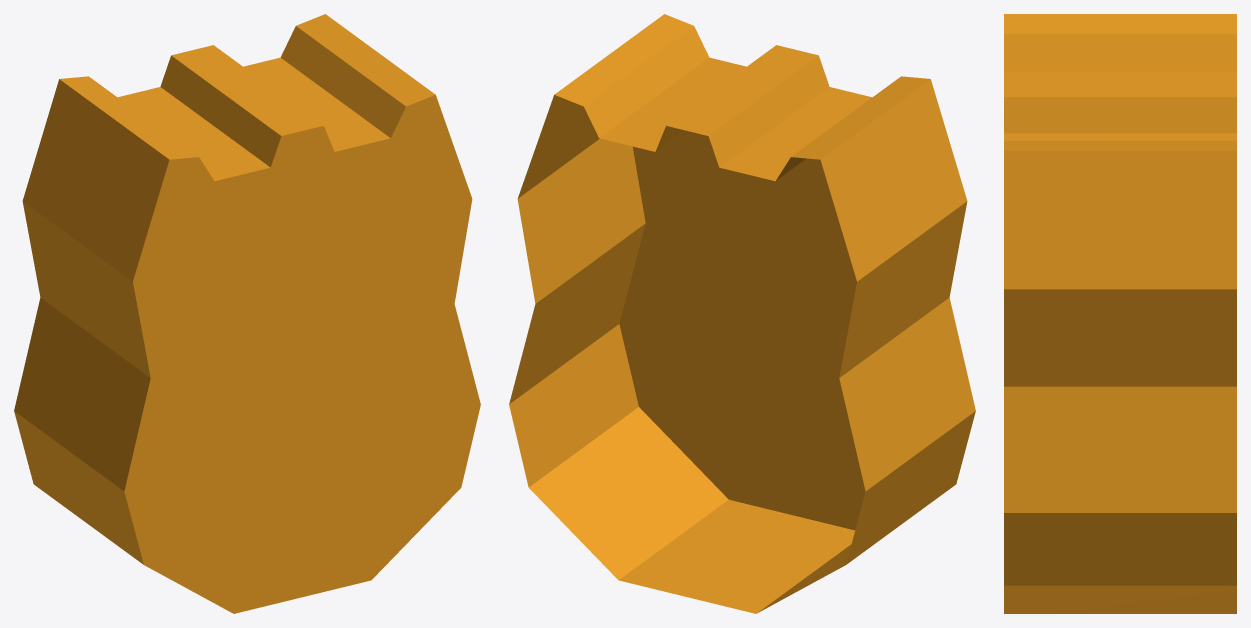
Rendered from Charakter_Policeman_sign.FBX.
3 renders of one model, left to right at view 1: azimuth 30°, elevation 25°; view 2: azimuth 150°, elevation 25°; view 3: azimuth 270°, elevation 25°, orthographic. The views are drawn at different scales.
Parts seen in each view (by area): view 1: Charakter_Policeman_sign; view 2: Charakter_Policeman_sign; view 3: Charakter_Policeman_sign.
Part boxes in pixels (x1=…): Charakter_Policeman_sign: x1=14, y1=14, x2=480, y2=613; Charakter_Policeman_sign: x1=509, y1=14, x2=975, y2=613; Charakter_Policeman_sign: x1=1004, y1=14, x2=1236, y2=613.
Size of the model in its own units: 34.33 by 18.4 by 43.24.
